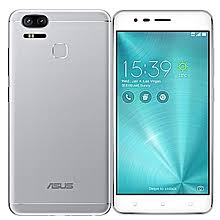asus: (5, 7, 112, 215), (109, 7, 216, 215)
